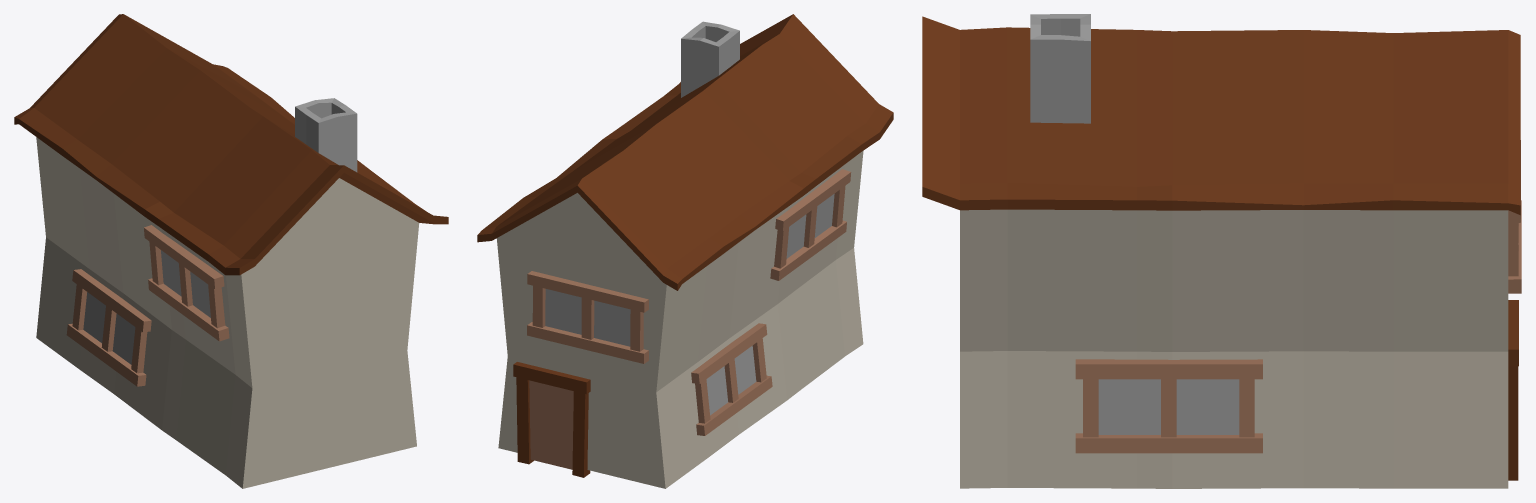
File: house2.fbx
The picture shows the model from 3 angles, left to right: view 1: azimuth 30°, elevation 25°; view 2: azimuth 150°, elevation 25°; view 3: azimuth 270°, elevation 25°; orthographic projection. The views are drawn at different scales.
Visible parts, largest first — view 1: Cube, Cube.001, Plane.001, Cube.024, Cube.014, Cube.015, Cube.025, Plane.003, Cube.022, Cube.012, Cube.011, Cube.013; view 2: Cube, Cube.002, Cube.001, Plane.002, Cube.019, Cube.020, Plane.001, Cube.024, Cube.014, Cube.004, Cube.005, Cube.015 (+10 smaller); view 3: Cube, Plane, Cube.001, Cube.009, Cube.010, Cube.003, Cube.006, Cube.007, Cube.008, Cube.005.
Part boxes in pixels (x1,y1,x2,y2): Cube: (14, 14, 448, 488); Cube.001: (295, 98, 357, 172); Plane.001: (83, 292, 135, 364); Cube.024: (144, 225, 224, 289); Cube.014: (72, 269, 151, 332); Cube.015: (66, 323, 146, 386); Cube.025: (148, 278, 229, 341); Plane.003: (161, 250, 210, 317); Cube.022: (208, 284, 225, 328); Cube.012: (131, 327, 147, 373); Cube.011: (101, 306, 116, 351); Cube.013: (72, 284, 86, 330); Cube: (477, 14, 893, 488); Cube.002: (529, 380, 573, 469); Cube.001: (681, 21, 739, 97); Plane.002: (545, 289, 630, 346); Cube.019: (527, 271, 648, 312); Cube.020: (527, 322, 648, 363); Plane.001: (706, 345, 756, 415); Cube.024: (775, 169, 851, 231); Cube.014: (691, 323, 767, 383); Cube.004: (572, 391, 590, 477); Cube.005: (513, 362, 590, 394); Cube.015: (696, 375, 772, 435); Cube: (922, 16, 1520, 488); Plane: (1098, 379, 1239, 434); Cube.001: (1030, 14, 1090, 123); Cube.009: (1075, 359, 1262, 379); Cube.010: (1075, 433, 1262, 453); Cube.003: (1508, 366, 1518, 480); Cube.006: (1161, 379, 1176, 437); Cube.007: (1239, 379, 1254, 437); Cube.008: (1083, 379, 1098, 437); Cube.005: (1508, 300, 1518, 366).
Size of the model in its own units: 353 by 527 by 656.
